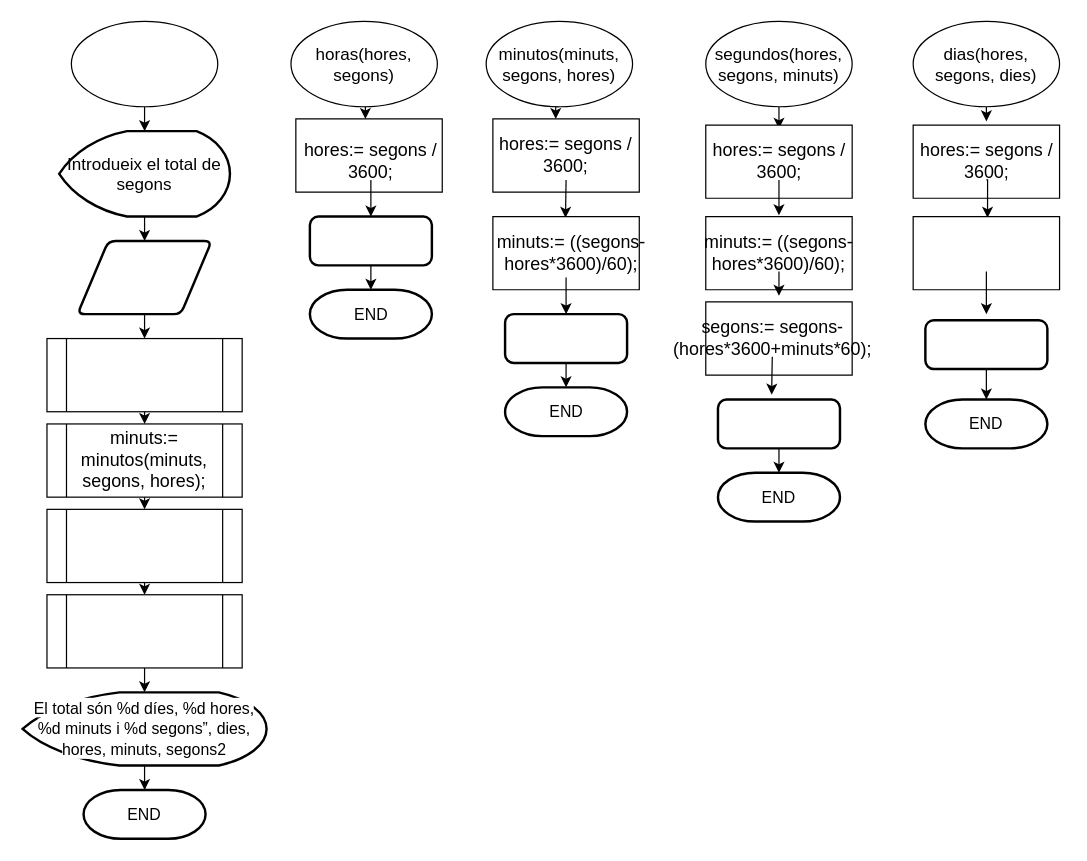
Some shapes in this 1087 by 861 pixel diagram are drawn without their labels. The centre of each missing label's shape, as x and y in pixels:
"dies:= dias(hores, segons, dies);" belongs at (x=144, y=631).
"dies:= hores / 24" belongs at (x=986, y=252).
"hores:= horas(hores, segons)" belongs at (x=144, y=374).
"return dies" belongs at (x=986, y=344).
"return hores" belongs at (x=370, y=240).
"return minuts" belongs at (x=565, y=338).
"return segons" belongs at (x=778, y=423).
"segons" belongs at (x=144, y=277).
"segons2:= segundos(hores, segons, minuts);" belongs at (x=144, y=545).
"START" belongs at (x=144, y=63).
